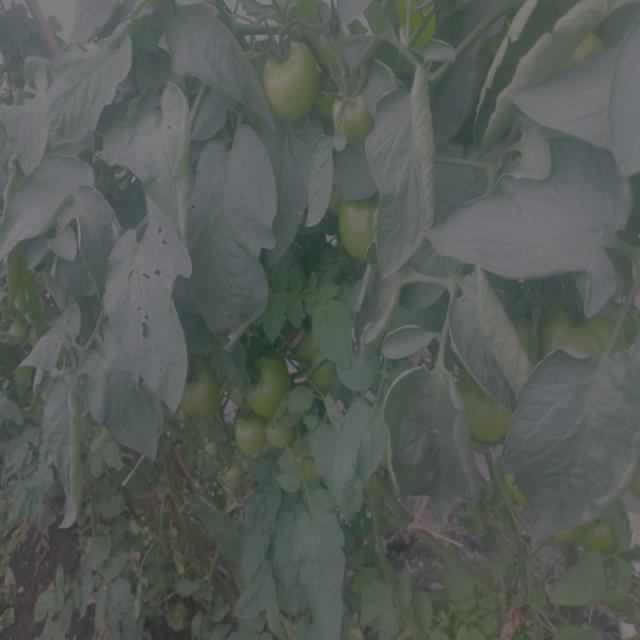tomato: (542, 305, 640, 359), (260, 39, 321, 121), (462, 375, 509, 444), (247, 352, 290, 423), (340, 202, 391, 261), (301, 337, 346, 399), (180, 368, 227, 421), (333, 90, 377, 140), (588, 519, 636, 555), (5, 317, 44, 346), (234, 423, 264, 457), (578, 32, 603, 59), (227, 467, 255, 488), (302, 459, 323, 486), (269, 427, 296, 445), (558, 530, 586, 543), (203, 446, 225, 458)
